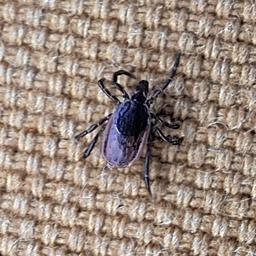Ixodes scapularis: (103, 32, 205, 173)
